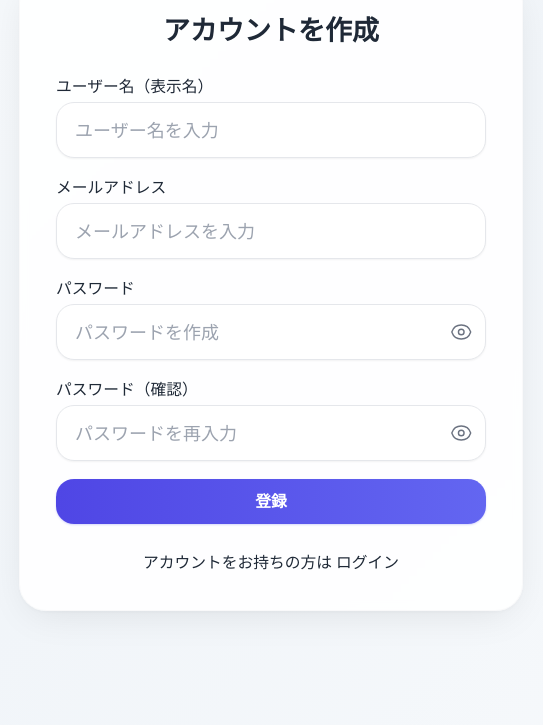
Scenario: RegisterPage › when not authenticated › should display error when registration fails
Type "testuser" into the field labelled "ユーザー名（表示名）".
click(271, 130); type("testuser")  # box [56,102,486,158]
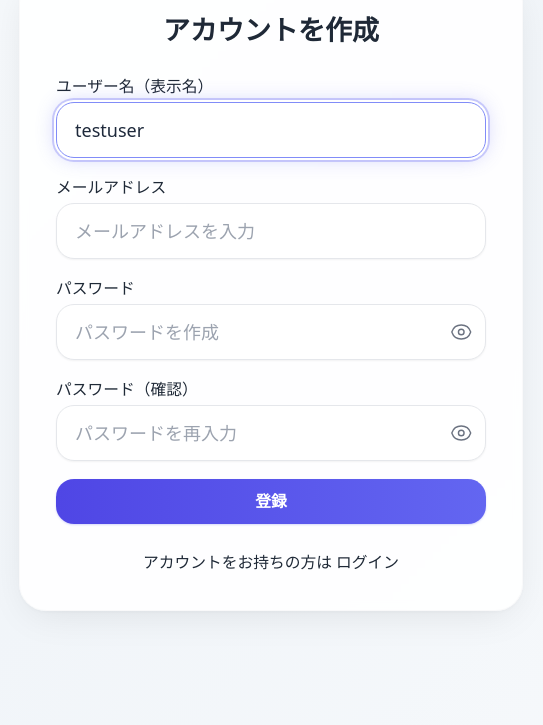
Type "existing@example.com" into the field labelled "メールアドレス".
click(271, 231); type("existing@example.com")  # box [56,203,486,259]
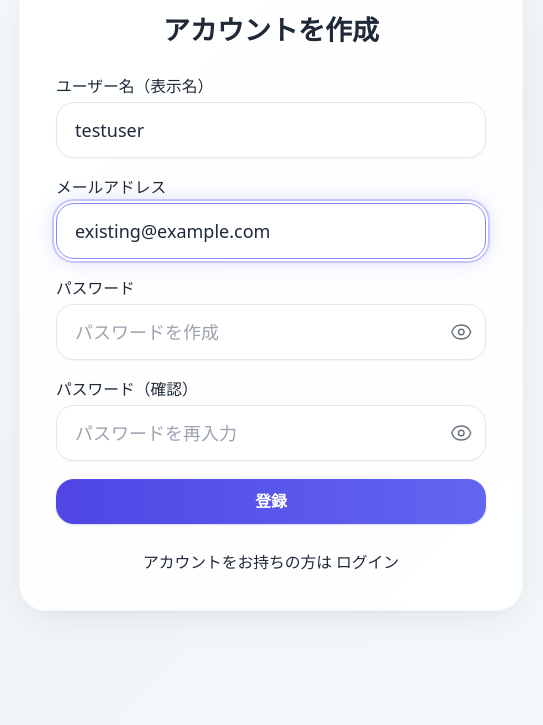
Type "Password1" into the password field labelled "パスワード".
click(271, 332); type("Password1")  # box [56,304,486,360]
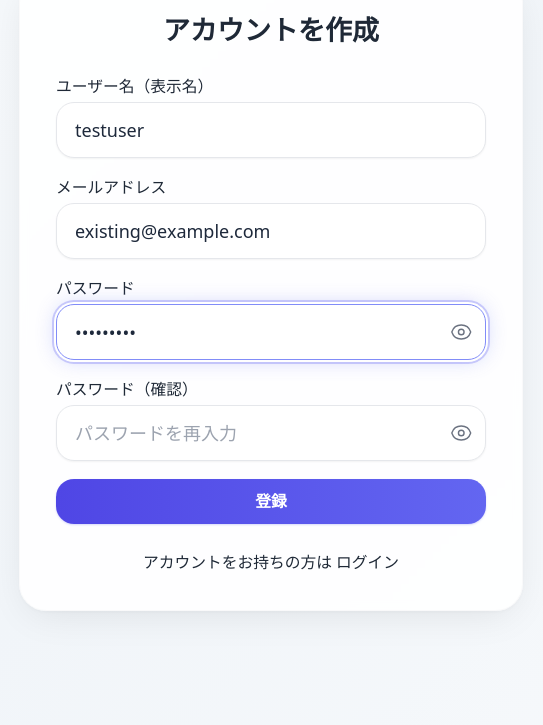
Type "Password1" into the password field labelled "パスワード（確認）".
click(271, 433); type("Password1")  # box [56,405,486,461]
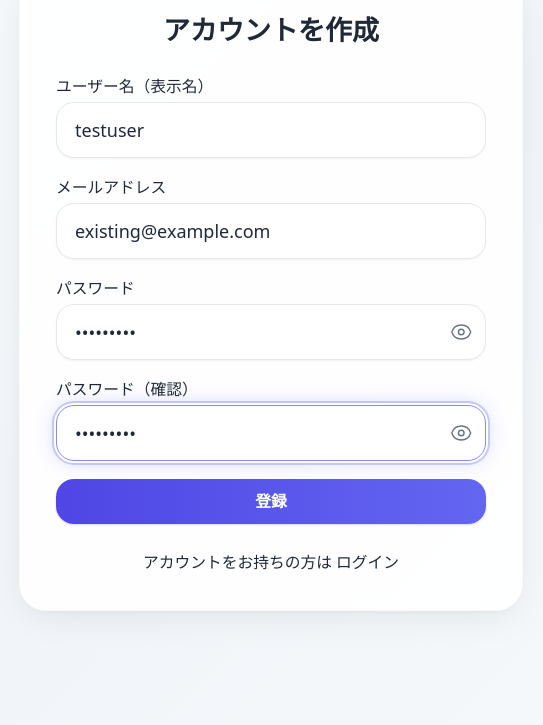
Click the button "登録".
click(271, 502)  # box [56,479,486,524]
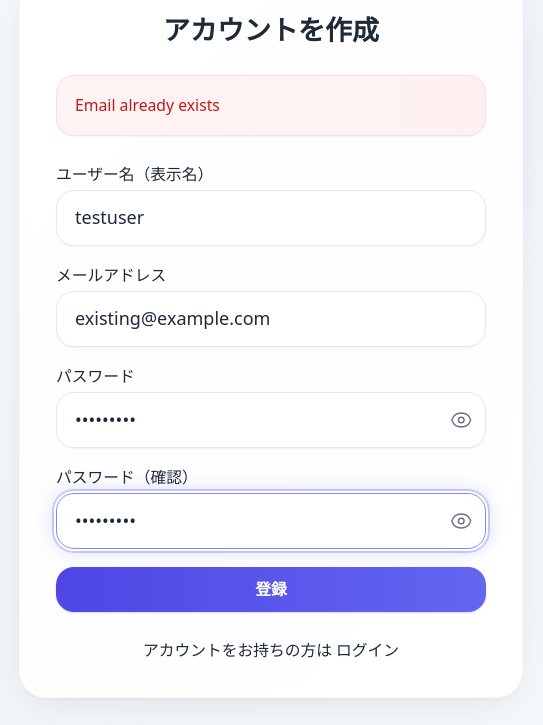
Result: the text "Email already exists" is shown at [56,75,486,136]
